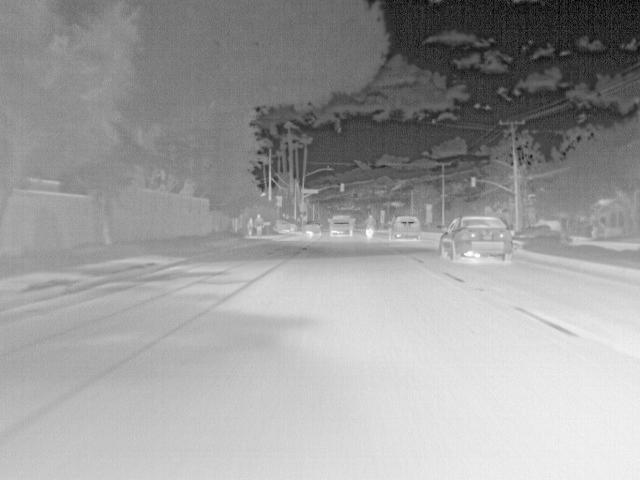car: (441, 214, 515, 265), (388, 214, 423, 240), (328, 213, 355, 235), (276, 218, 296, 232), (304, 220, 321, 236)
person: (254, 212, 266, 238), (246, 214, 256, 234), (365, 213, 376, 228)
